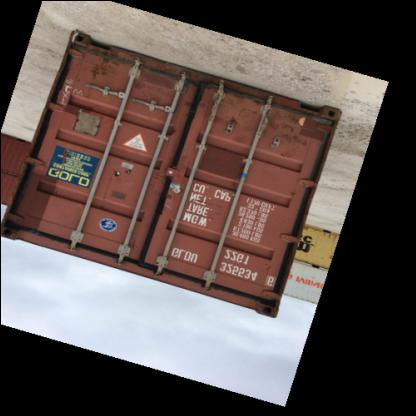Damage: (270, 111, 312, 155), (229, 93, 259, 152), (177, 86, 210, 134), (85, 50, 121, 86), (102, 163, 130, 209), (152, 172, 179, 216), (132, 69, 152, 99)
